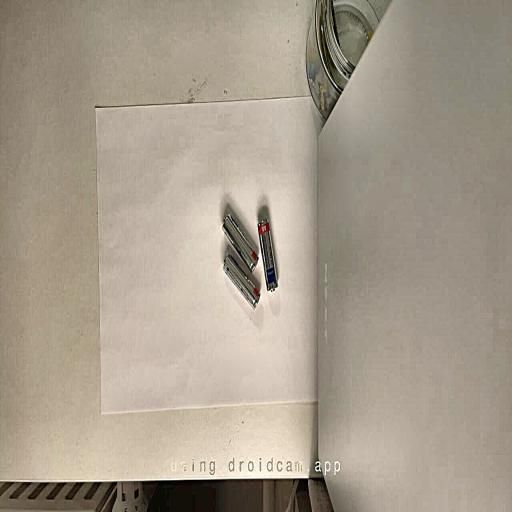RainbowAA: (223, 212, 258, 272), (223, 255, 260, 309), (258, 218, 278, 291)
